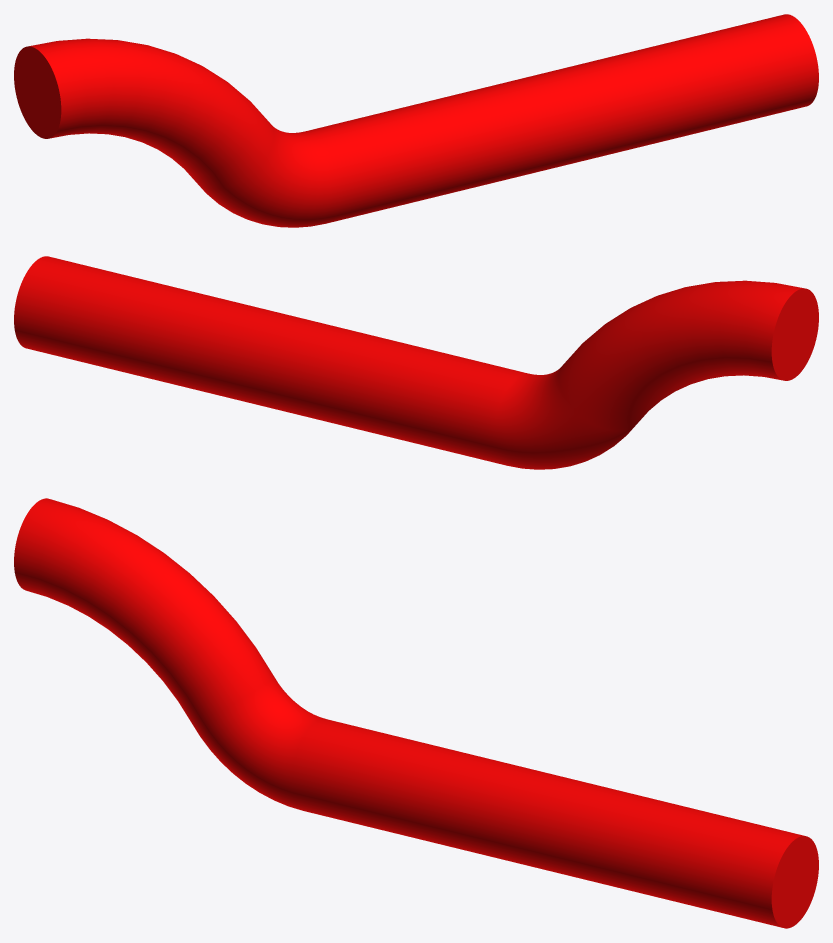
The model's file is REV_11_2159_P08__REV_11_2159_P08.gltf.
3 views of the same model, one above another, from view 1: azimuth 30°, elevation 25°; view 2: azimuth 150°, elevation 25°; view 3: azimuth 330°, elevation 25° (orthographic).
Visible parts, largest first — view 1: mesh87285, mesh87287, mesh87286, mesh87288; view 2: mesh87285, mesh87287, mesh87286, mesh87288; view 3: mesh87285, mesh87287, mesh87286, mesh87284.
Part boxes in pixels (left/top/right/bottom): mesh87285: left=306, top=14, right=818, bottom=222; mesh87287: left=29, top=38, right=273, bottom=189; mesh87286: left=198, top=124, right=338, bottom=227; mesh87288: left=14, top=46, right=61, bottom=138; mesh87285: left=14, top=256, right=526, bottom=464; mesh87287: left=559, top=280, right=803, bottom=431; mesh87286: left=494, top=366, right=634, bottom=469; mesh87288: left=771, top=288, right=818, bottom=380; mesh87285: left=291, top=719, right=804, bottom=927; mesh87287: left=14, top=498, right=273, bottom=723; mesh87286: left=192, top=676, right=325, bottom=810; mesh87284: left=771, top=836, right=818, bottom=928.
Bounding box in the file's own units: 0.0415 × 0.0125 × 0.00449.
